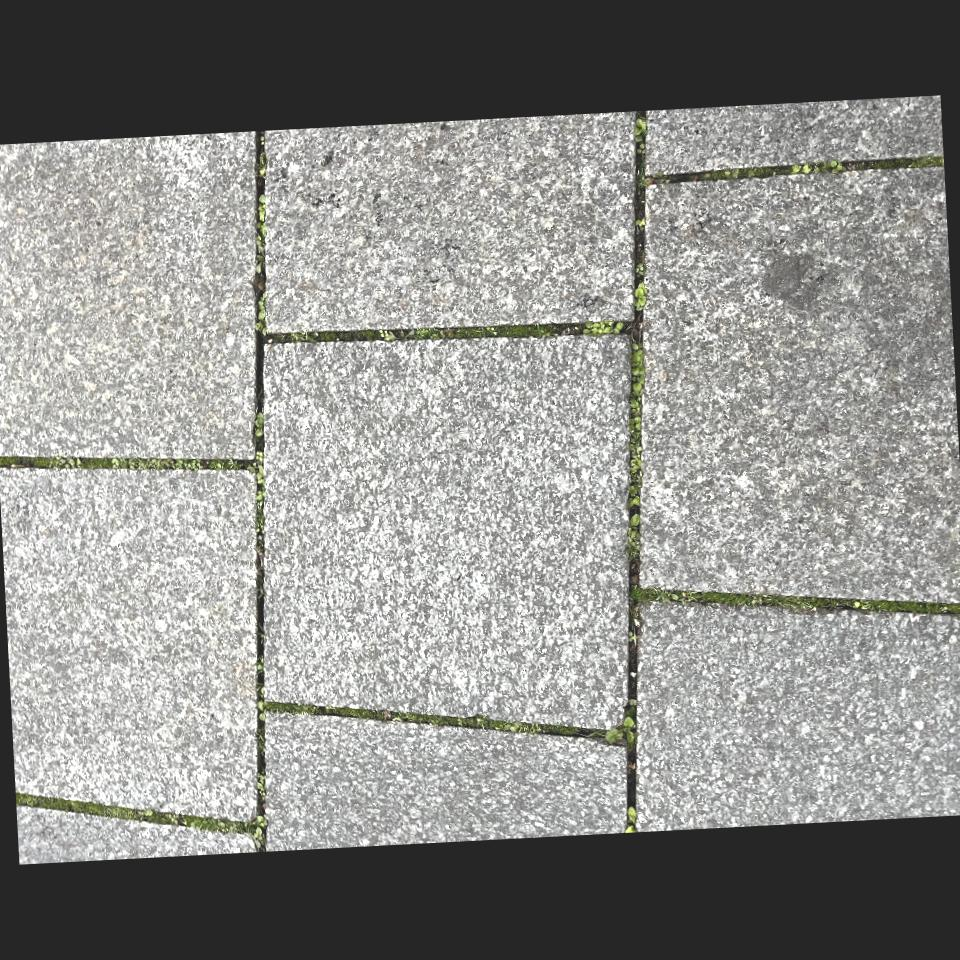weed: (16, 793, 267, 849), (634, 587, 960, 614), (627, 342, 644, 574), (0, 456, 258, 470), (605, 717, 634, 743), (583, 321, 623, 335), (634, 282, 647, 310)
